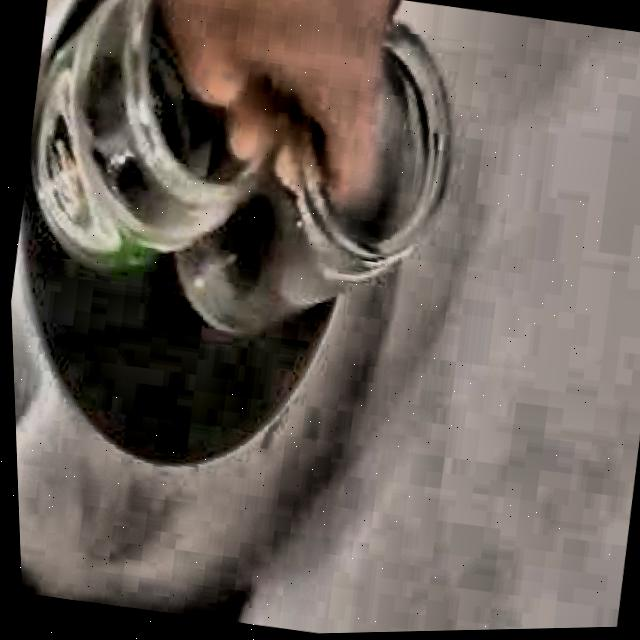glass: (28, 0, 450, 336)
